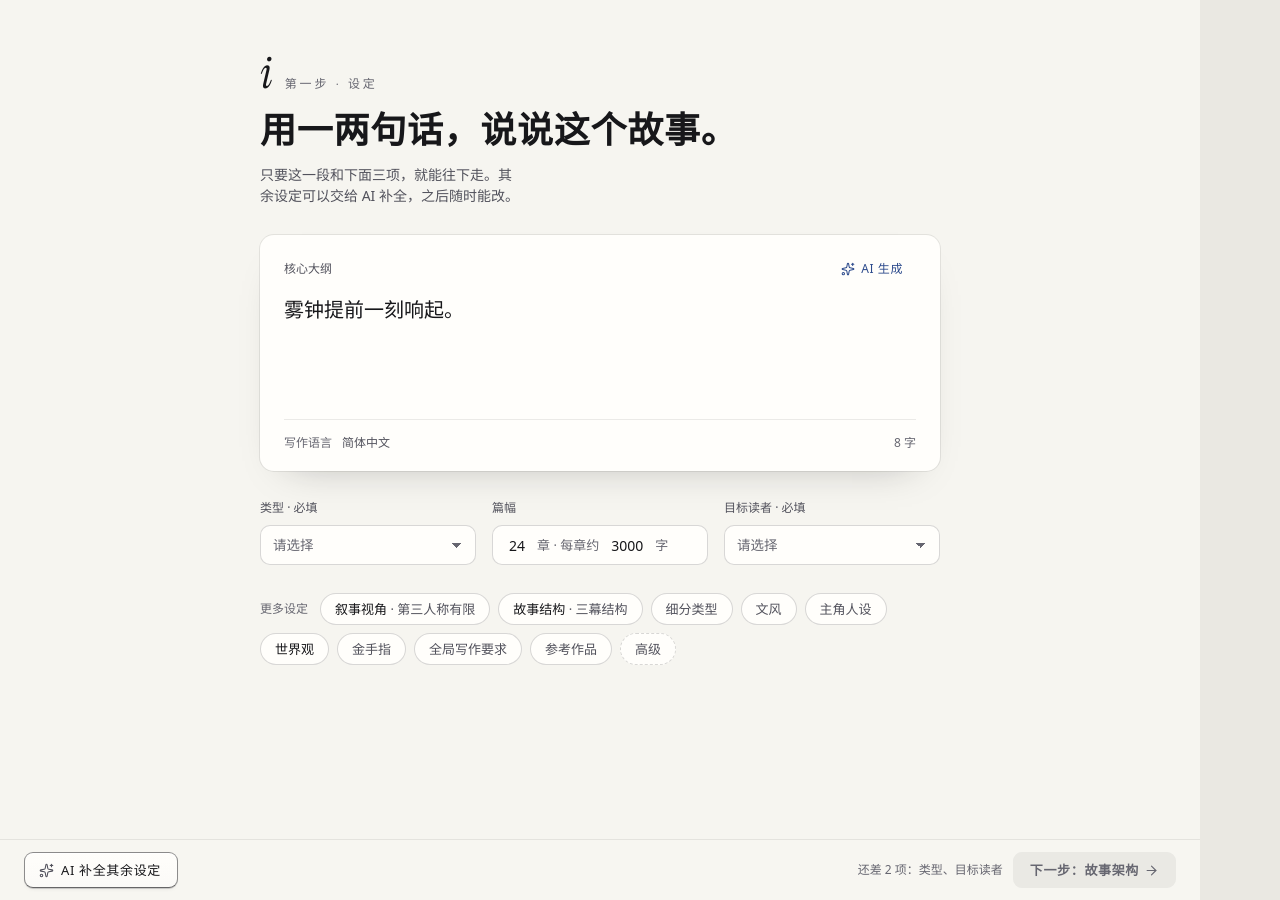
Test: 设定页 › AI 补全以核心大纲为脑洞启动；已有作者内容时先确认扩写
Click the button "AI 补全其余设定": click(101, 870) [24,852,178,888]
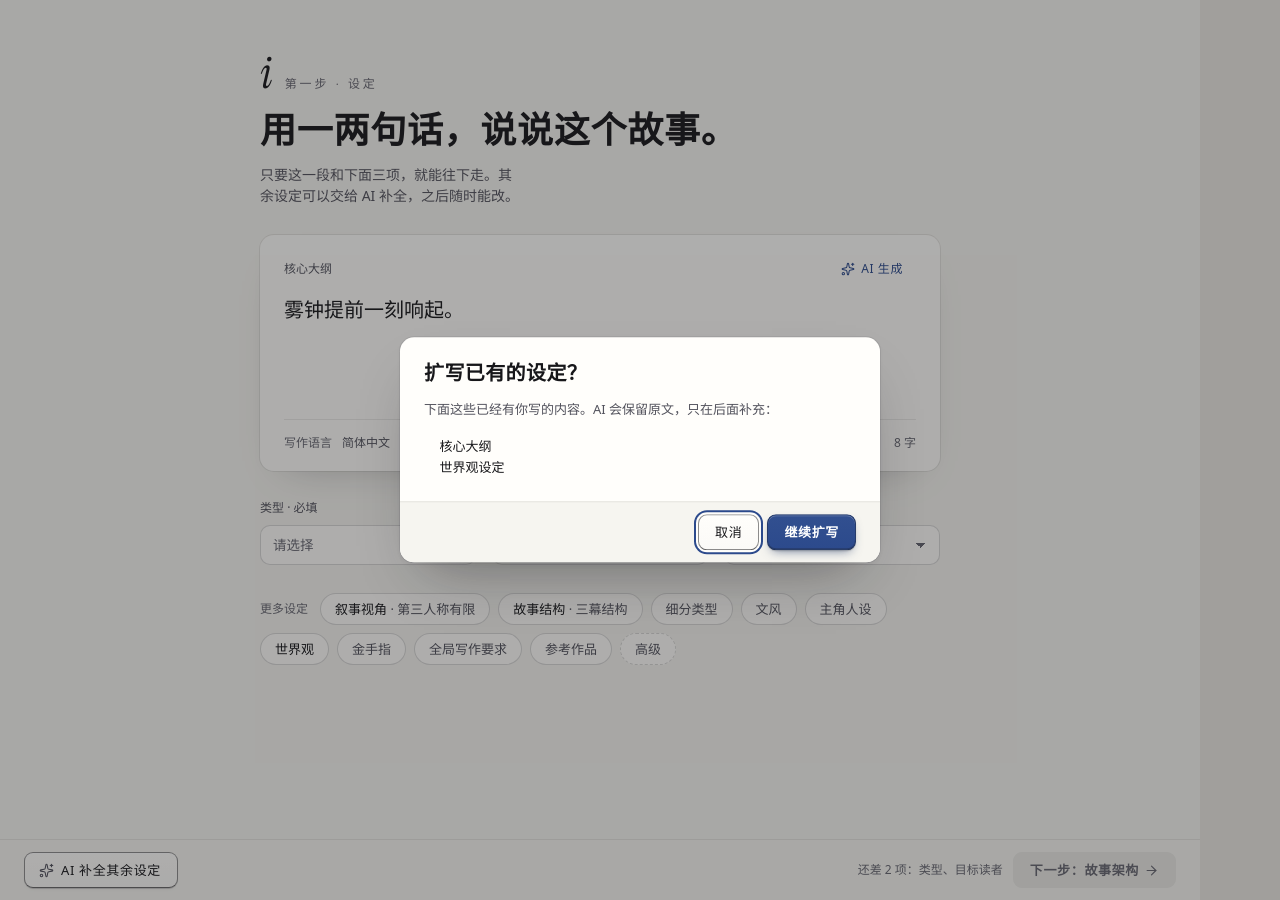
Expected: the heading "扩写已有的设定？" is shown, [424,359,587,387]
Expected: the button "继续扩写" is shown
Click the button "继续扩写": click(812, 533) [767,515,856,551]
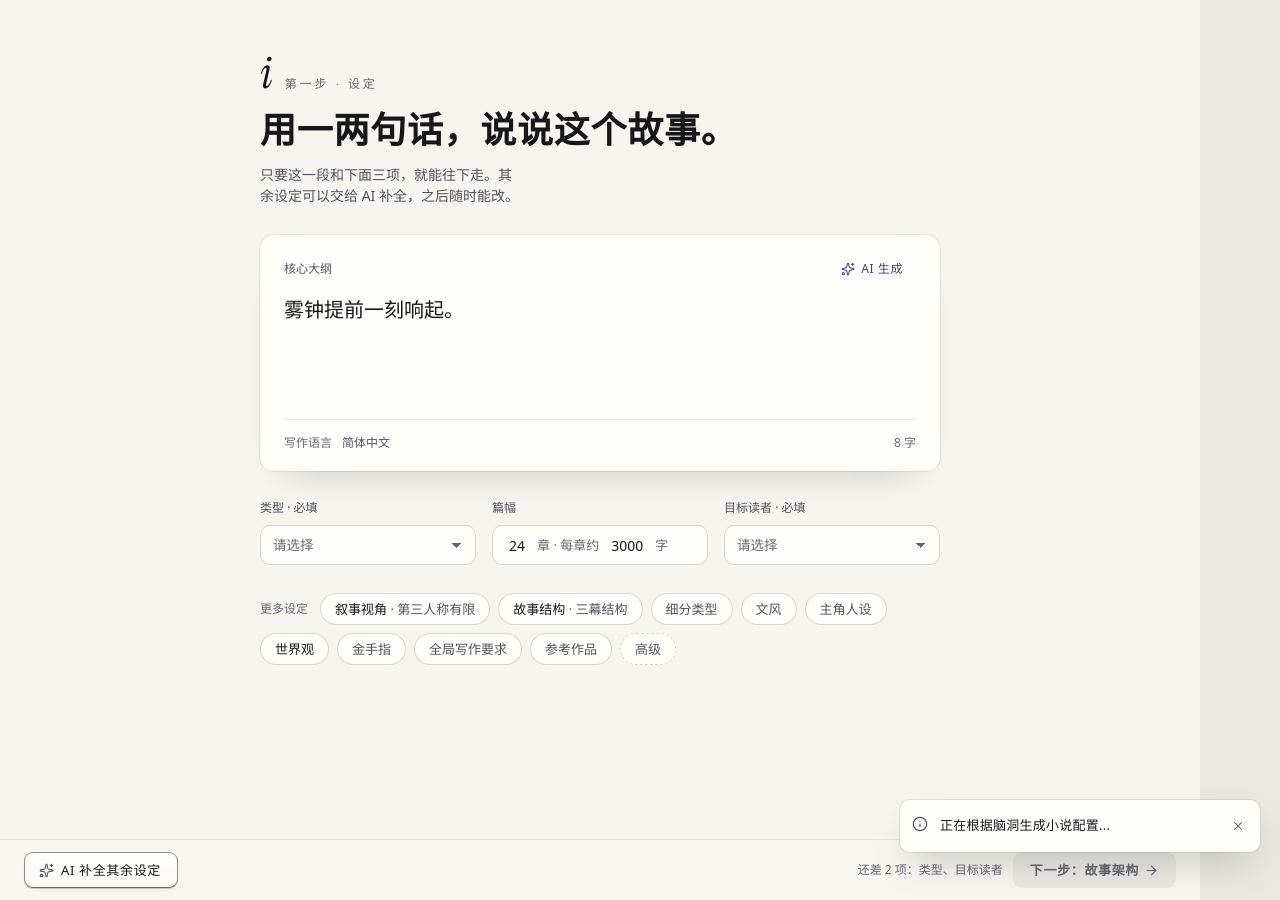
Expected: the dialog is gone
